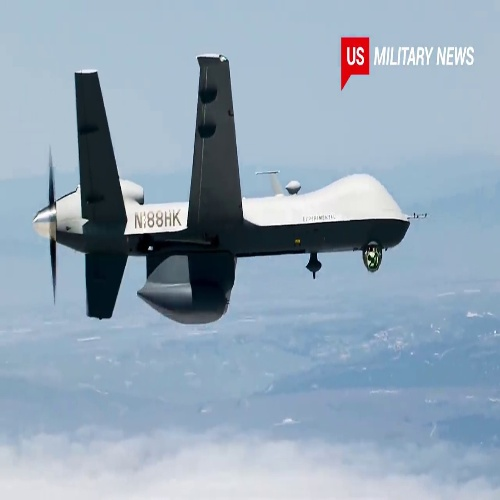uav: (31, 53, 420, 324)
